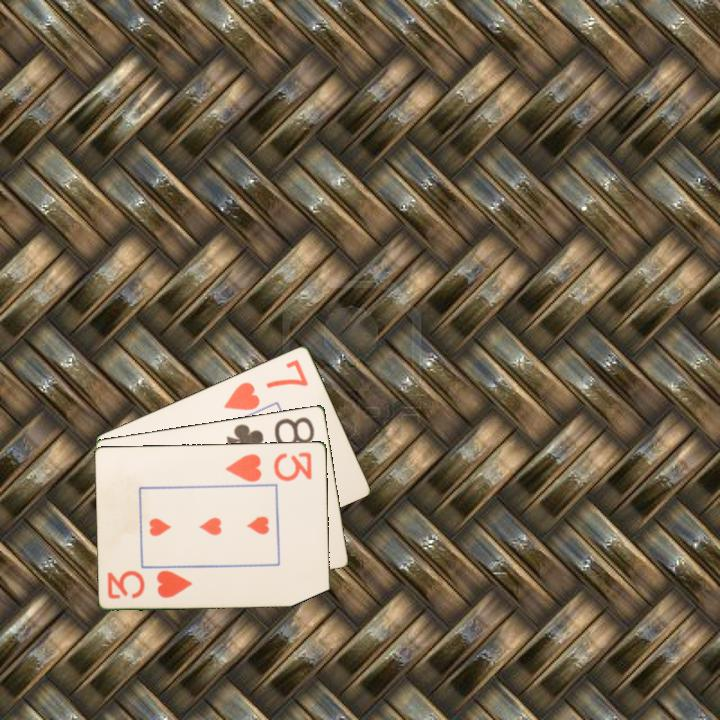3h: (222, 448, 315, 484), (104, 567, 196, 602)
7h: (220, 355, 311, 413)
8c: (223, 413, 317, 458)
